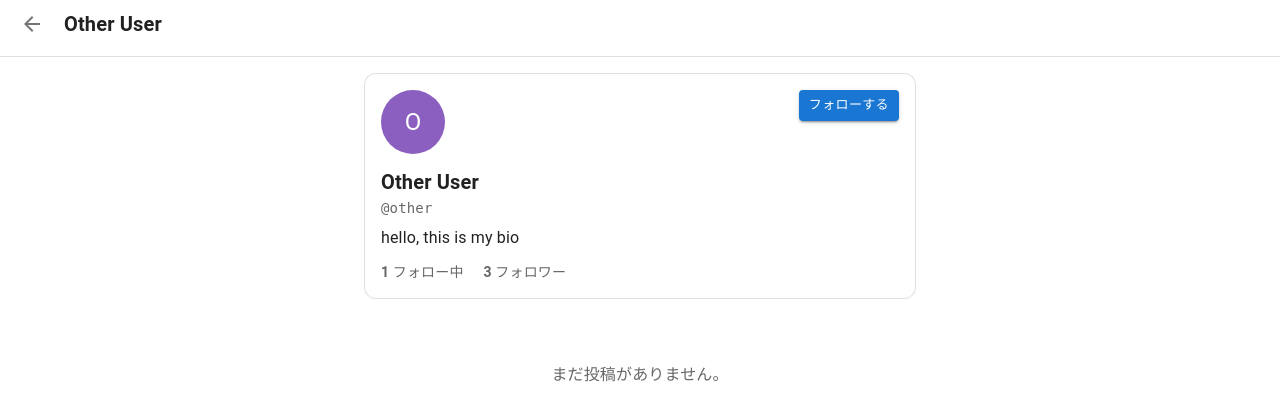
Scenario: ProfilePage › shows a follow button for another users profile and toggles it
Click the button "フォローする" at (849, 105), box [799, 90, 899, 121]
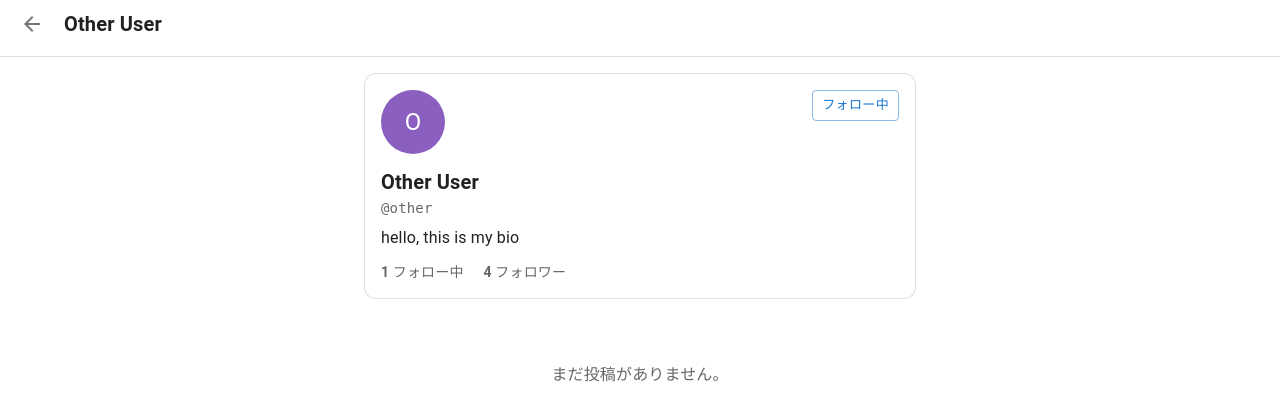
Result: the button "フォロー中" is shown at [812, 90, 899, 121]
Result: the text "4" is shown at [484, 264, 492, 280]
